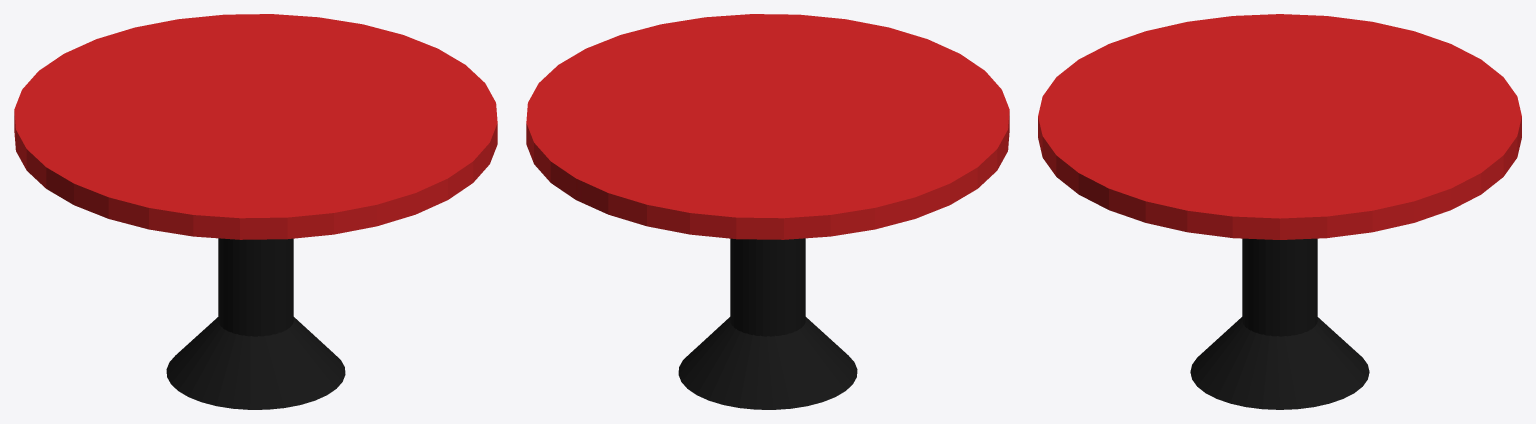
Rendered from mesa_ext_1.obj.
3 renders of one model, left to right at view 1: azimuth 30°, elevation 25°; view 2: azimuth 150°, elevation 25°; view 3: azimuth 270°, elevation 25°, orthographic.
Parts seen in each view (by area): view 1: Cilindro.003_Cilindro.007; view 2: Cilindro.003_Cilindro.007; view 3: Cilindro.003_Cilindro.007.
Part boxes in pixels (bbox=[...]): Cilindro.003_Cilindro.007: bbox=[14, 14, 497, 409]; Cilindro.003_Cilindro.007: bbox=[526, 14, 1009, 409]; Cilindro.003_Cilindro.007: bbox=[1038, 14, 1521, 409].
Bounding box in the file's own units: 1.2 × 0.7 × 1.2.
